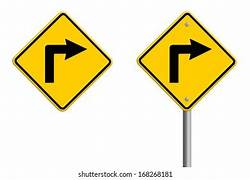right: (137, 11, 236, 111), (15, 13, 112, 111)
